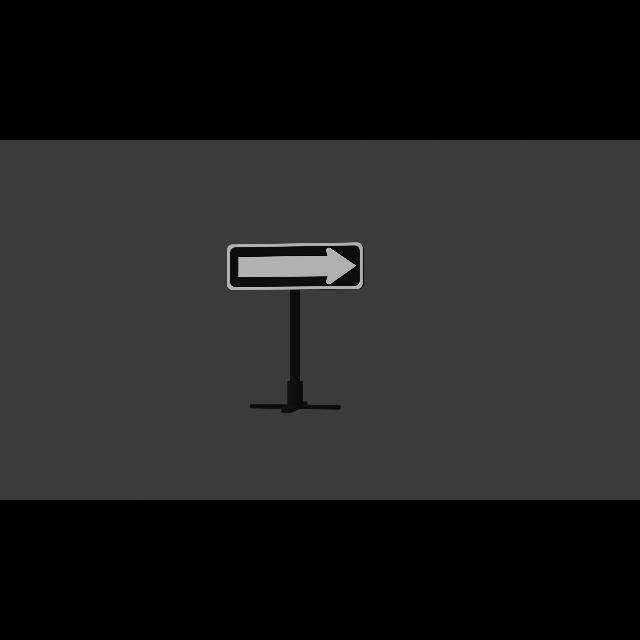sign_oneway_right: (228, 243, 365, 292)
